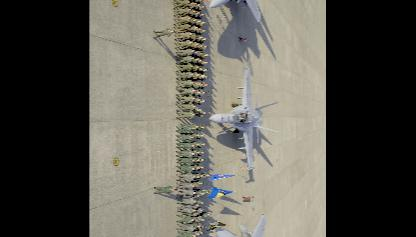F117: (214, 211, 292, 235), (208, 0, 285, 22)
F15: (209, 64, 280, 170)
